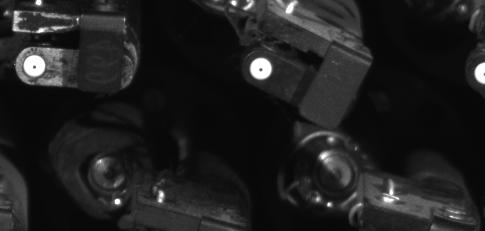fiber: (246, 53, 280, 84), (18, 52, 50, 81), (471, 60, 485, 86)
